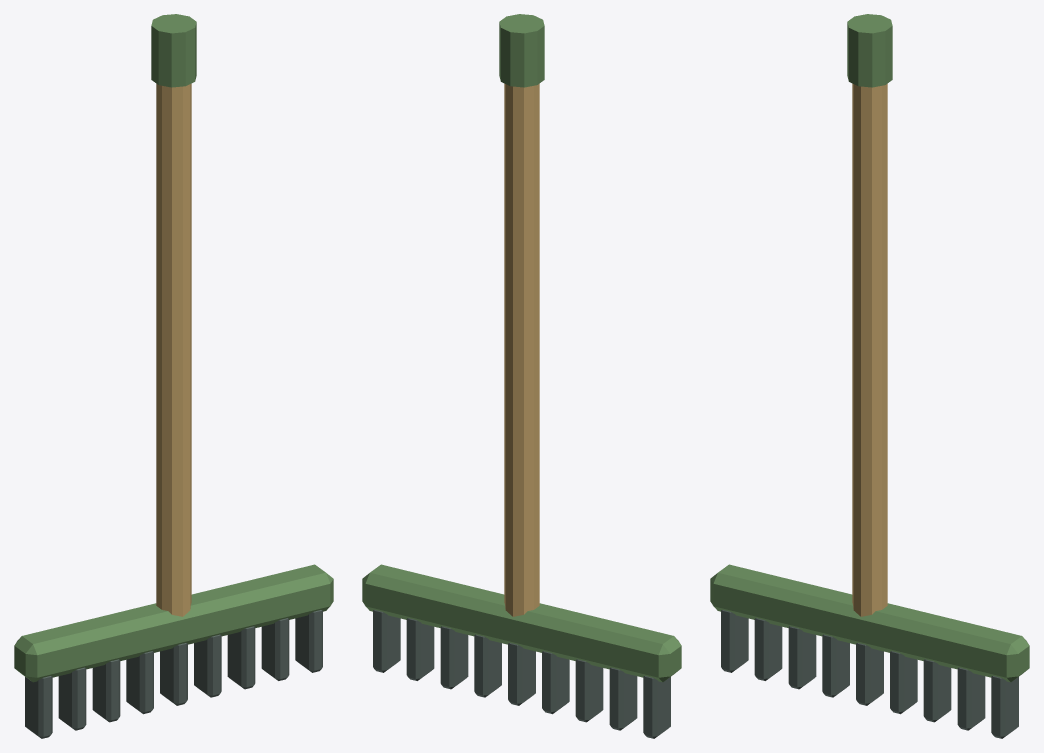
Rendered from 10_Farm_Rake.glb.
The picture shows the model from 3 angles, left to right: view 1: azimuth 30°, elevation 25°; view 2: azimuth 150°, elevation 25°; view 3: azimuth 330°, elevation 25°; orthographic projection.
Parts seen in each view (by area): view 1: 10_Farm_Rake__Body; view 2: 10_Farm_Rake__Body; view 3: 10_Farm_Rake__Body.
Part boxes in pixels (left/top/right/bottom): 10_Farm_Rake__Body: left=14, top=14, right=333, bottom=738; 10_Farm_Rake__Body: left=362, top=14, right=681, bottom=738; 10_Farm_Rake__Body: left=710, top=14, right=1029, bottom=738.
Bounding box in the file's own units: 1.43 × 3 × 0.186.
Materials: 1 (1 with a texture image).
